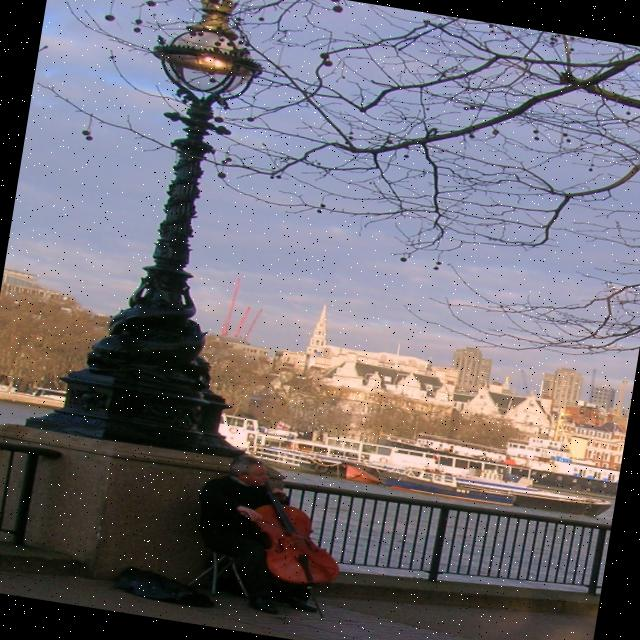cello: (225, 469, 360, 596)
